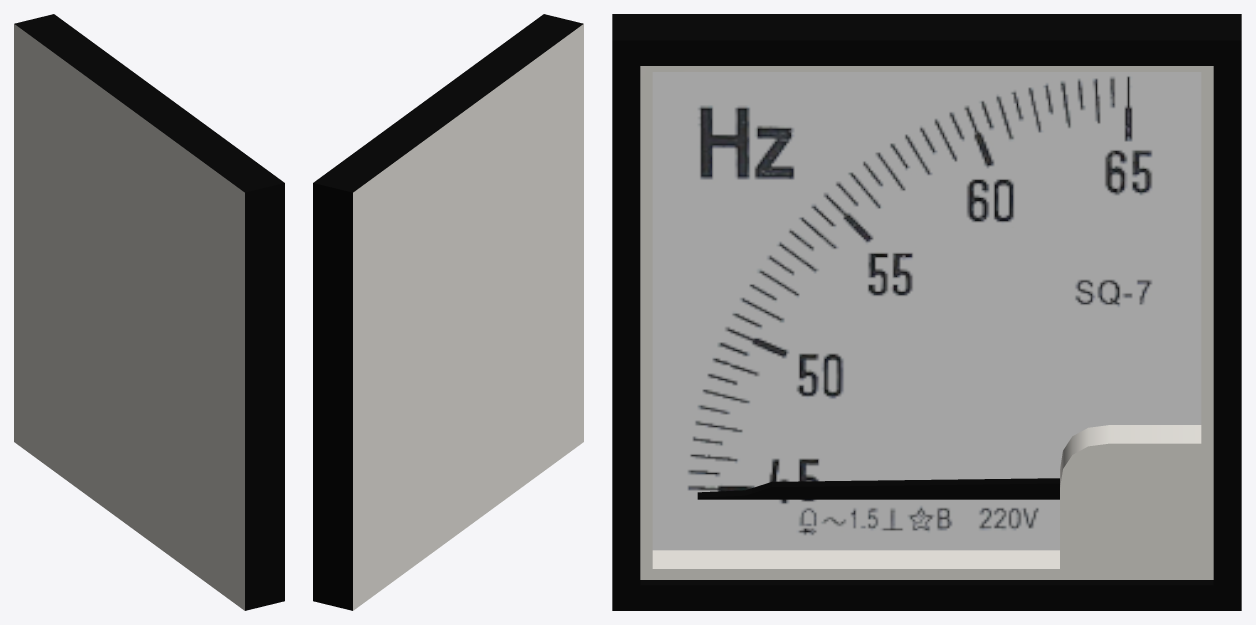
Rendered from gauge_hz_45-65.fbx.
The picture shows the model from 3 angles, left to right: view 1: azimuth 30°, elevation 25°; view 2: azimuth 150°, elevation 25°; view 3: azimuth 270°, elevation 25°; orthographic projection. The views are drawn at different scales.
Visible parts, largest first — view 1: gauge_hz_45-65; view 2: gauge_hz_45-65; view 3: gauge_hz_45-65, needle005.
Boxes of the visible parts, <box> form: gauge_hz_45-65: <box>14,14,284,610</box>; gauge_hz_45-65: <box>313,14,583,610</box>; gauge_hz_45-65: <box>612,14,1241,610</box>; needle005: <box>697,478,1059,499</box>.
Bounding box in the file's own units: 0.8243 × 8.24 × 8.24.
Materials: 1 (1 with a texture image).
